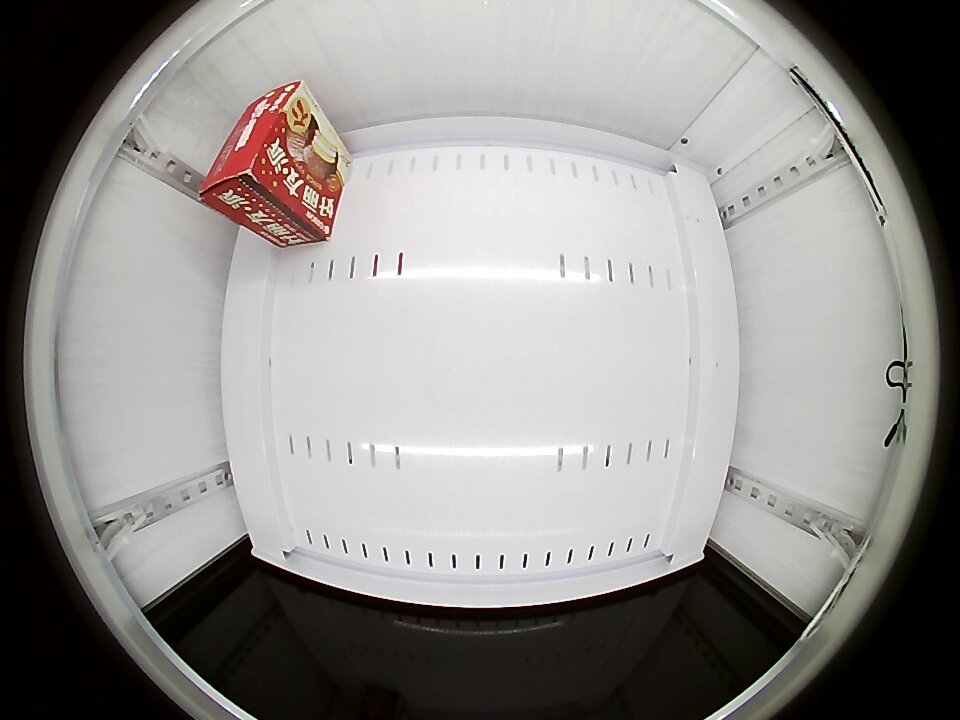haoliyou: (201, 80, 323, 220)
